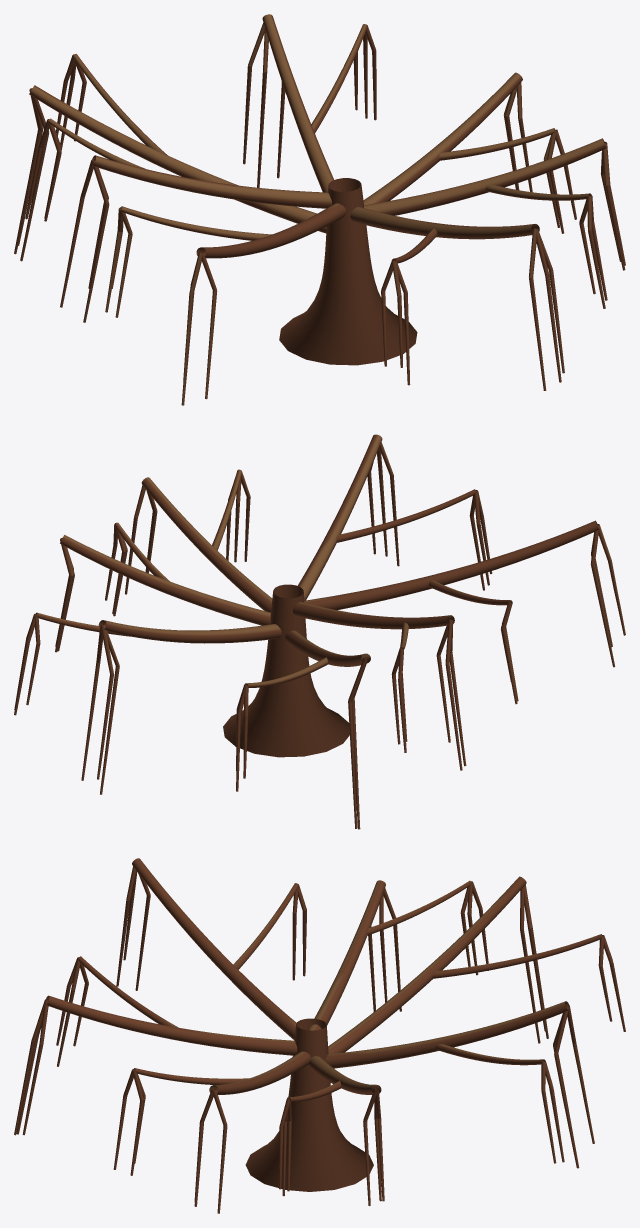
File: colony-tree-23-bark.obj
3 views of the same model, one above another, from view 1: azimuth 30°, elevation 25°; view 2: azimuth 150°, elevation 25°; view 3: azimuth 270°, elevation 25° (orthographic). The views are drawn at different scales.
Parts seen in each view (by area): view 1: bark; view 2: bark; view 3: bark.
Boxes of the visible parts, bbox=[...] form: bark: bbox=[14, 14, 625, 405]; bark: bbox=[14, 434, 625, 829]; bark: bbox=[14, 858, 625, 1213].
Size of the model in its own units: 891 by 375 by 1047.
